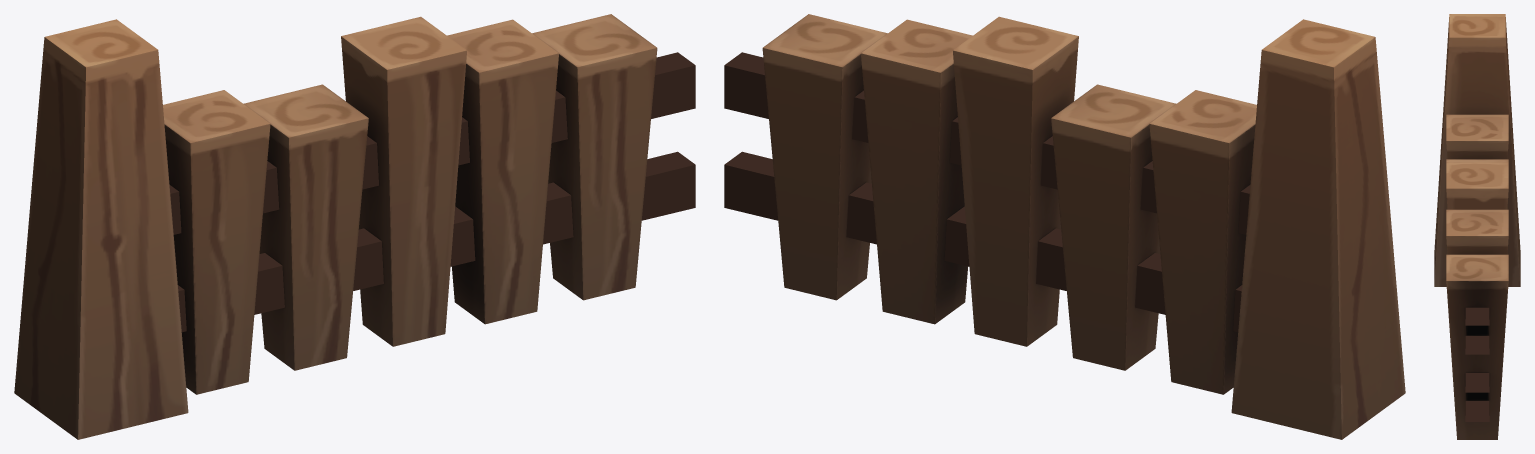
File: fence_tile_02.fbx
3 views of the same model, side by side, from view 1: azimuth 30°, elevation 25°; view 2: azimuth 150°, elevation 25°; view 3: azimuth 270°, elevation 25° (orthographic). The views are drawn at different scales.
Parts seen in each view (by area): view 1: fence_tile_02; view 2: fence_tile_02; view 3: fence_tile_02.
Part boxes in pixels (bbox=[...]): fence_tile_02: bbox=[14, 14, 695, 439]; fence_tile_02: bbox=[724, 14, 1405, 439]; fence_tile_02: bbox=[1434, 14, 1520, 439].
Bounding box in the file's own units: 3.98 × 2.14 × 0.6859.
